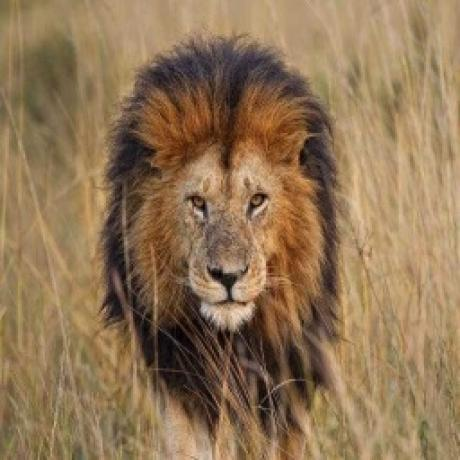Lion: (98, 31, 349, 447)
